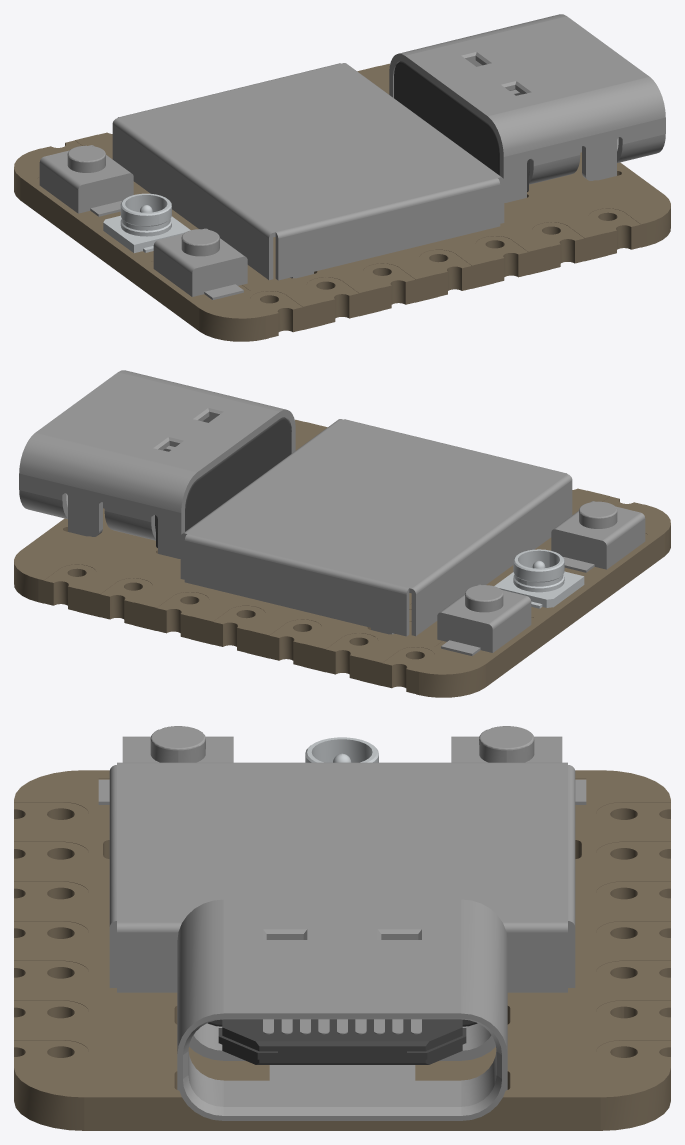
Rendered from xiao.glb.
The picture shows the model from 3 angles, top to bottom: view 1: azimuth 30°, elevation 25°; view 2: azimuth 150°, elevation 25°; view 3: azimuth 270°, elevation 25°; orthographic projection. The views are drawn at different scales.
Visible parts, largest first — view 1: Shield, SOLID, CHAMFER9, Button (1) (×2), CUT-EXTRUDE5, object 25; view 2: Shield, SOLID, CHAMFER9, Button (1) (×2), CUT-EXTRUDE5, object 25; view 3: SOLID, Shield, CHAMFER9, MIRROR2, Button (1) (×2), object 25.
Boxes of the visible parts, x1,y1,x2,y2 form: Shield: [112, 63, 504, 280]; SOLID: [14, 63, 670, 341]; CHAMFER9: [389, 14, 665, 202]; Button (1) (×2): [39, 145, 247, 299]; CUT-EXTRUDE5: [394, 61, 529, 191]; object 25: [103, 193, 190, 253]; Shield: [180, 419, 572, 636]; SOLID: [14, 419, 670, 697]; CHAMFER9: [19, 370, 295, 558]; Button (1) (×2): [437, 501, 645, 655]; CUT-EXTRUDE5: [155, 417, 290, 547]; object 25: [494, 549, 584, 607]; SOLID: [14, 770, 670, 1130]; Shield: [109, 762, 575, 992]; CHAMFER9: [177, 899, 507, 1120]; MIRROR2: [218, 1019, 466, 1064]; Button (1) (×2): [98, 726, 586, 804]; object 25: [305, 737, 378, 762].
Size of the model in its own units: 2 by 0.3748 by 1.58.
